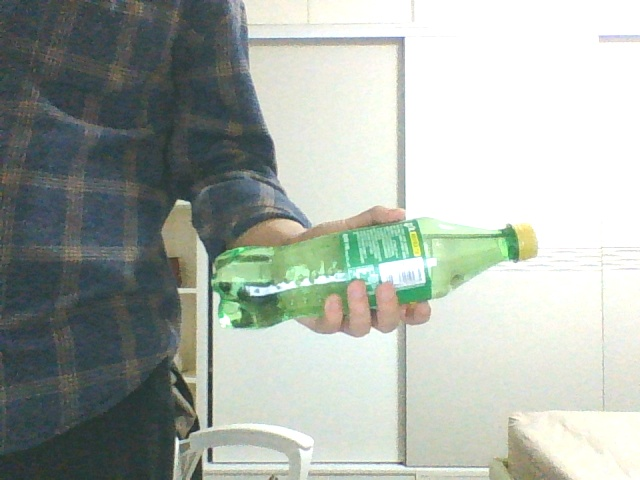Sprite: (211, 219, 539, 327)
